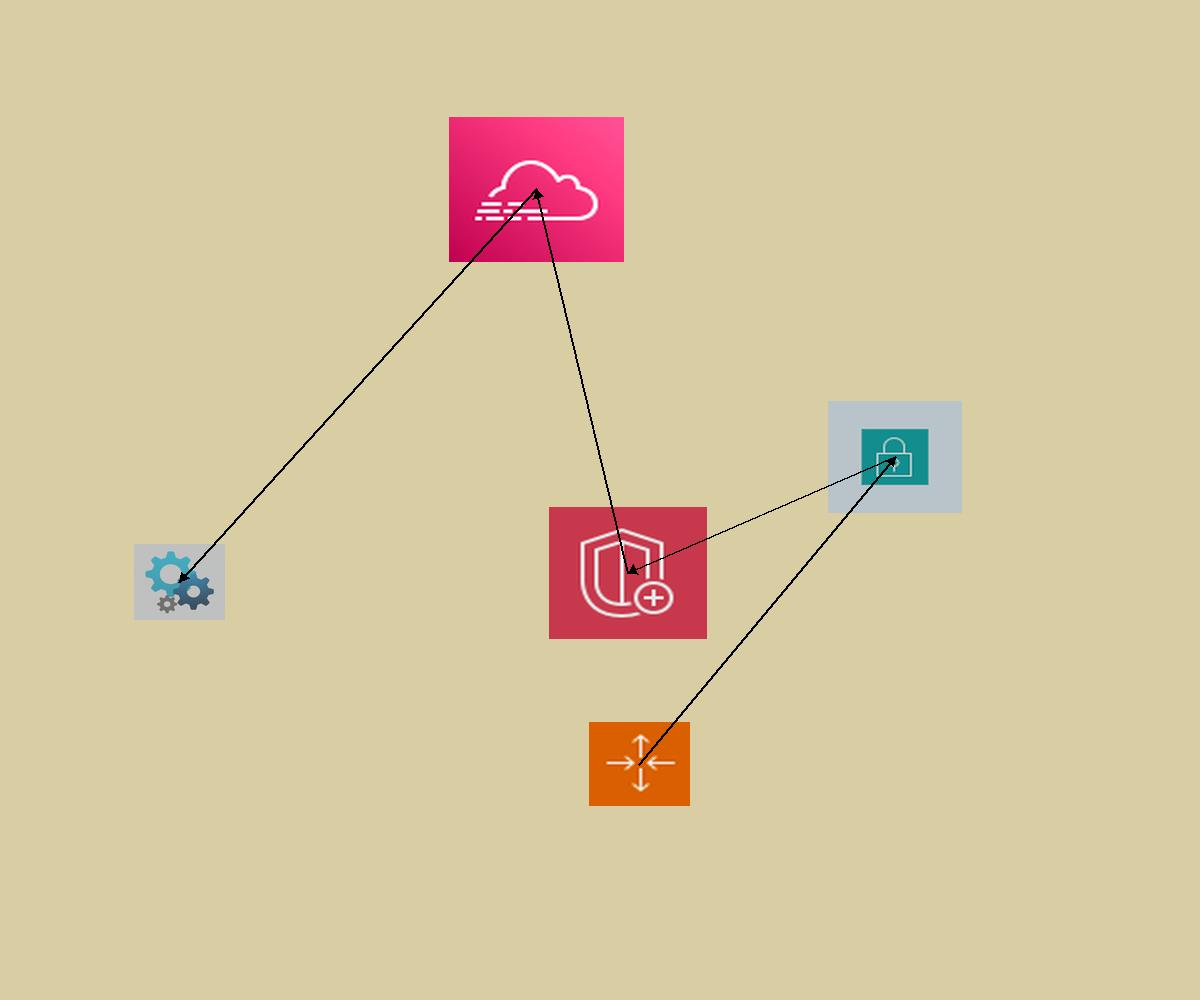AWS-CloudTrail: (449, 117, 624, 262)
AWS-Private-subnet: (828, 401, 962, 513)
AWS-Scaling-group: (589, 722, 690, 806)
AWS-Shield: (549, 507, 707, 639)
Azure_api: (134, 544, 225, 620)
